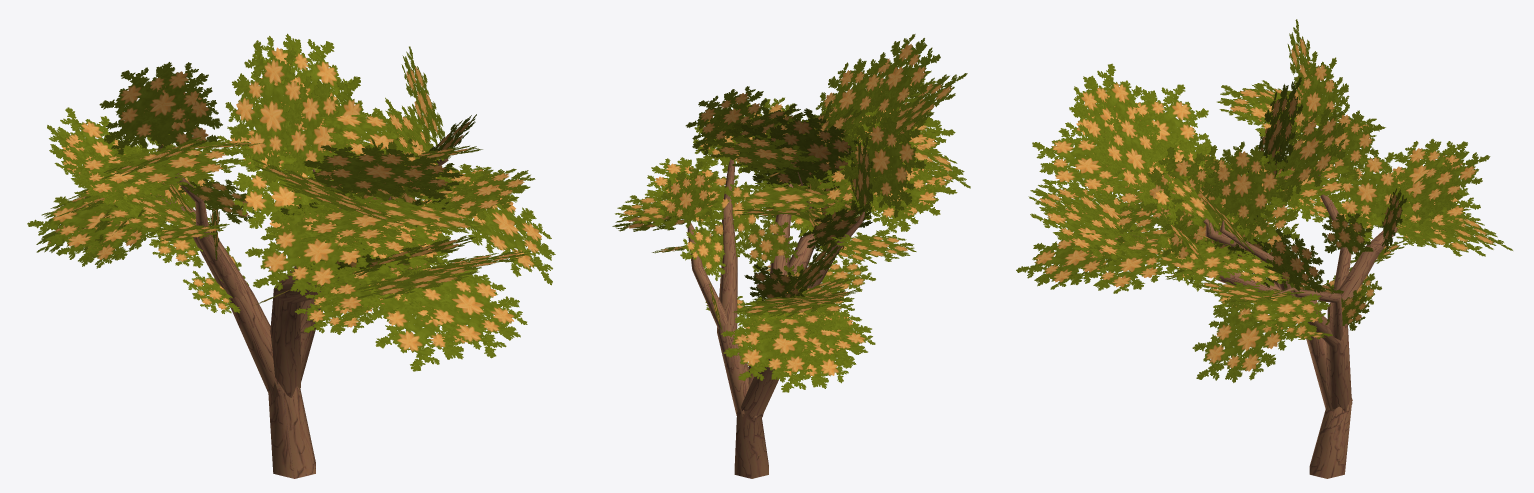
File: BloomyCrookedBush.fbx
3 views of the same model, side by side, from view 1: azimuth 30°, elevation 25°; view 2: azimuth 150°, elevation 25°; view 3: azimuth 270°, elevation 25° (orthographic). The views are drawn at different scales.
Parts seen in each view (by area): view 1: BloomyCrookedBushLeaves_LOD0, BloomyCrookedBush_LOD0; view 2: BloomyCrookedBushLeaves_LOD0, BloomyCrookedBush_LOD0; view 3: BloomyCrookedBushLeaves_LOD0, BloomyCrookedBush_LOD0.
Part boxes in pixels (<box>): BloomyCrookedBushLeaves_LOD0: <box>27,33,555,371</box>; BloomyCrookedBush_LOD0: <box>152,144,448,478</box>; BloomyCrookedBushLeaves_LOD0: <box>612,34,970,392</box>; BloomyCrookedBush_LOD0: <box>687,141,867,478</box>; BloomyCrookedBushLeaves_LOD0: <box>1016,19,1512,382</box>; BloomyCrookedBush_LOD0: <box>1133,173,1401,478</box>.
Size of what is drawn, in the model's own units: 92.26 by 90.3 by 108.
